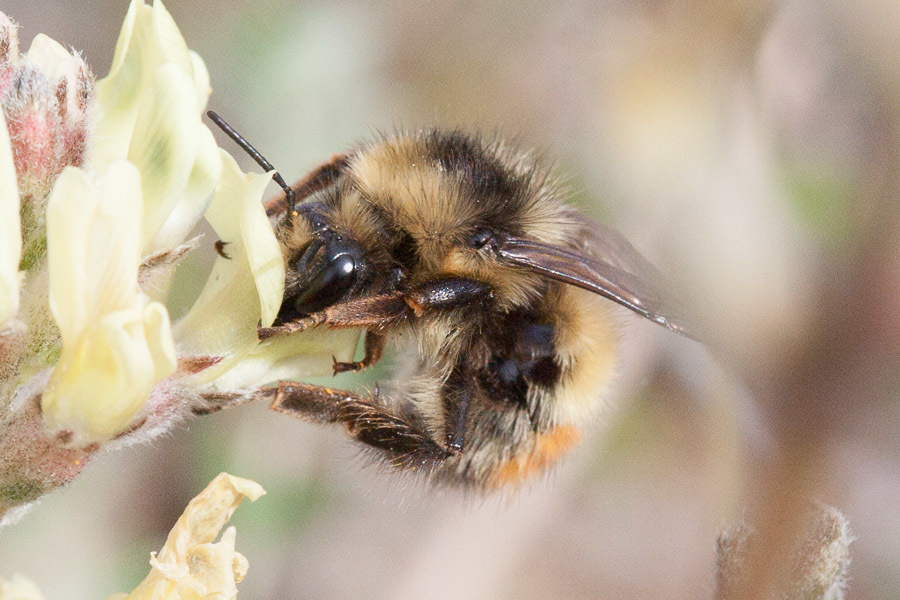bumblebee: (192, 109, 717, 497)
